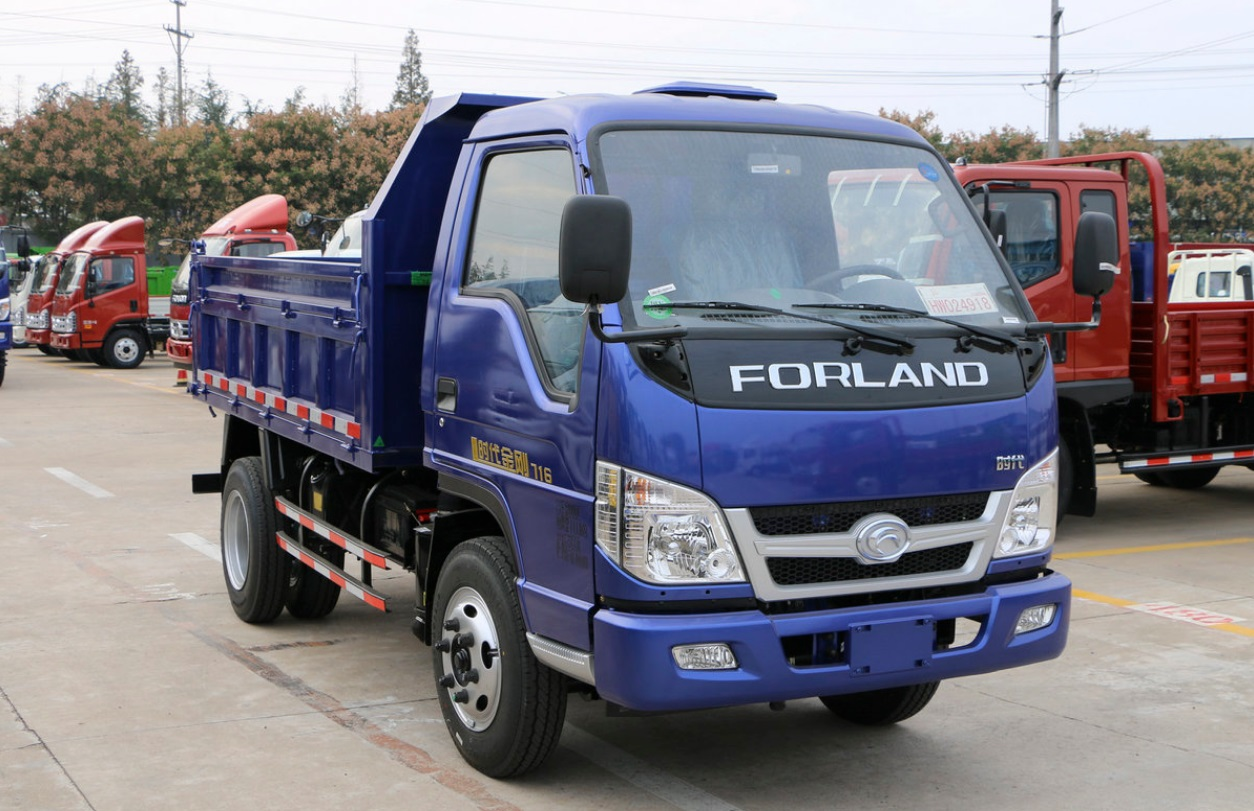truck: (179, 80, 1123, 782)
